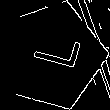L_W: (20, 34, 79, 77)
